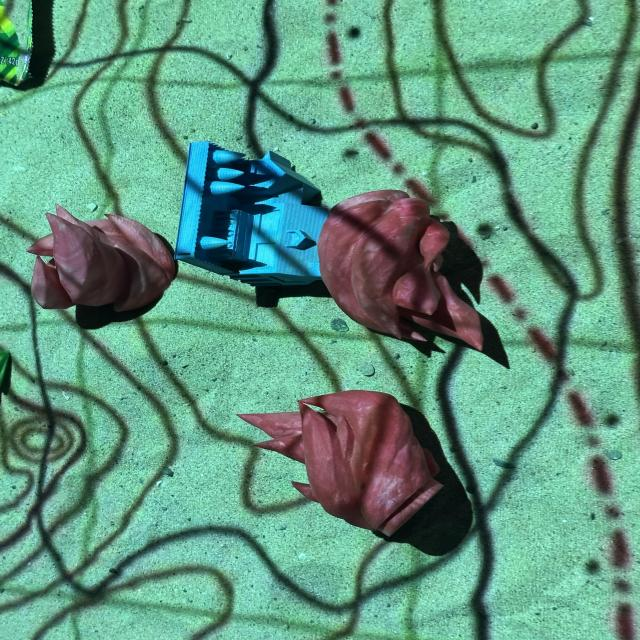fire: (236, 388, 448, 537), (312, 190, 496, 359), (23, 197, 175, 325)
house: (173, 140, 331, 308)
